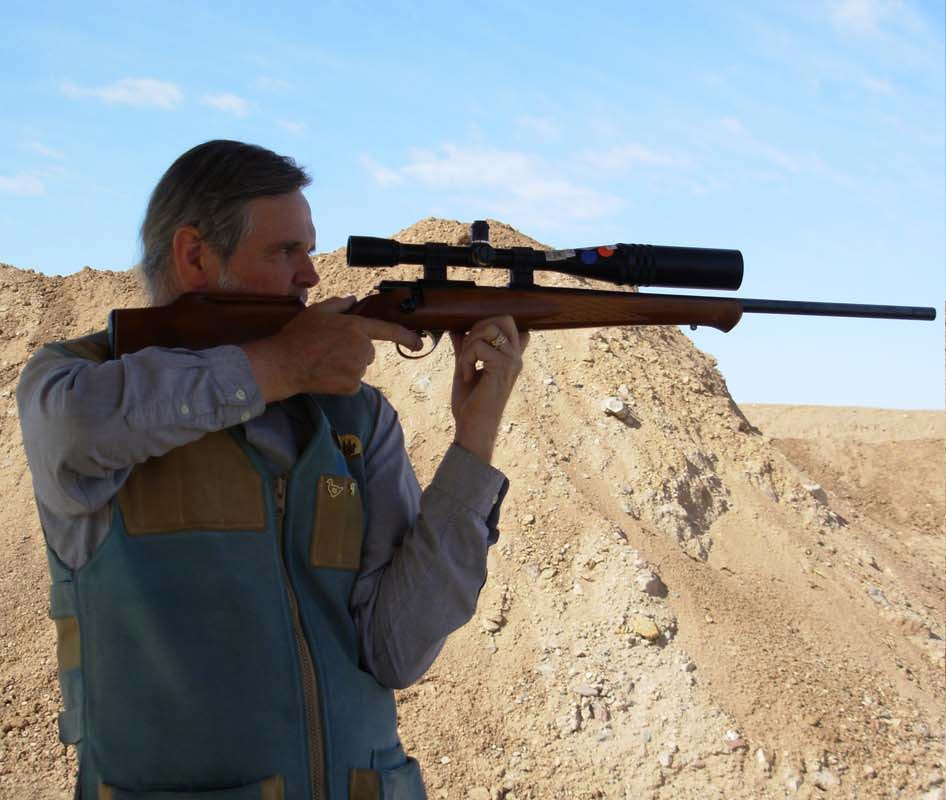Gun: (335, 243, 847, 344)
